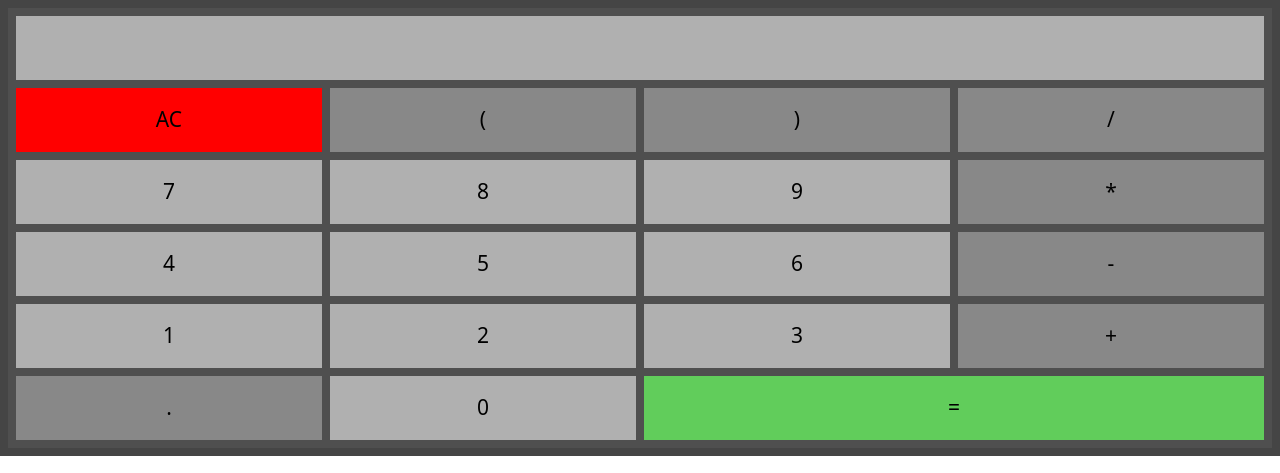
Scenario: BasicCalculator component › Clear button clears the display
Click the button with id "one" at (169, 336), box [16,304,322,368]
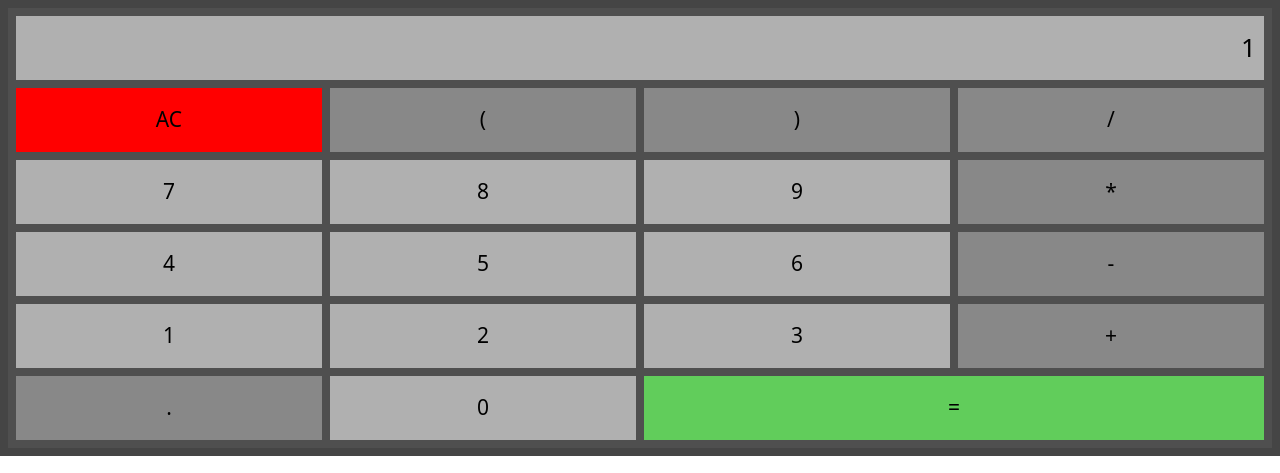
Click the button with id "two" at (483, 336), box [330,304,636,368]
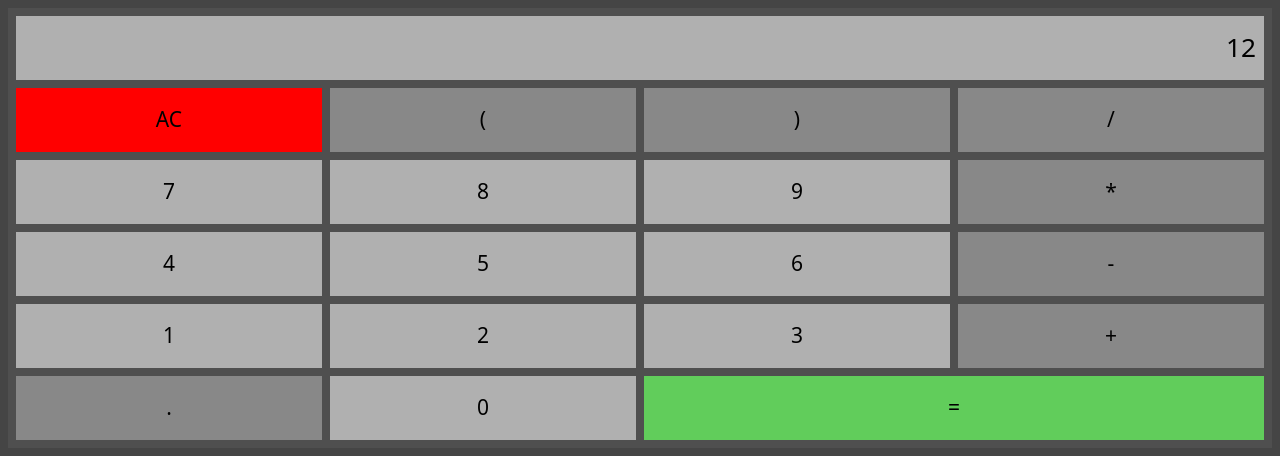
Click the button with id "three" at (797, 336), box [644,304,950,368]
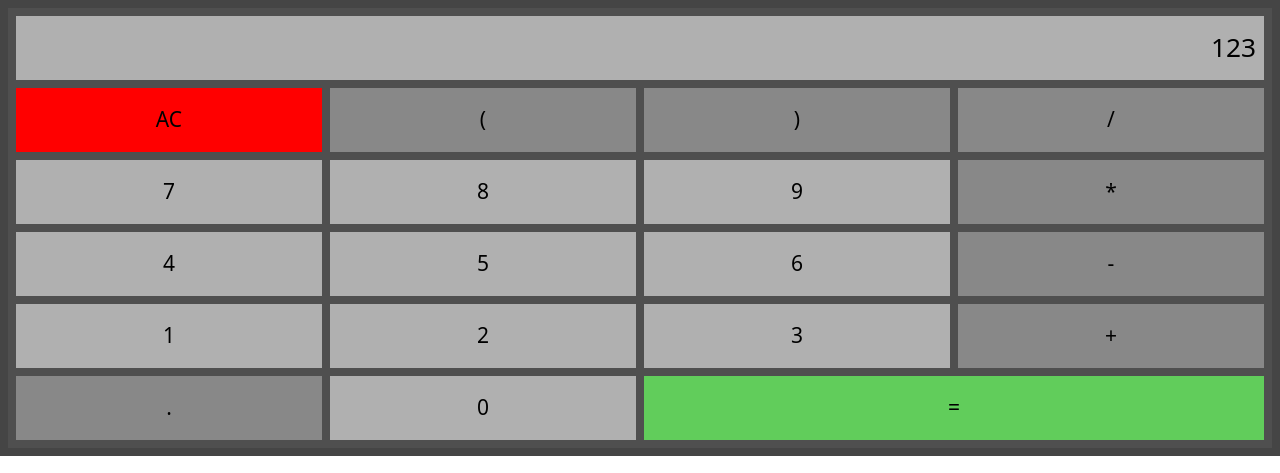
Click the button with id "clear" at (169, 120), box [16,88,322,152]
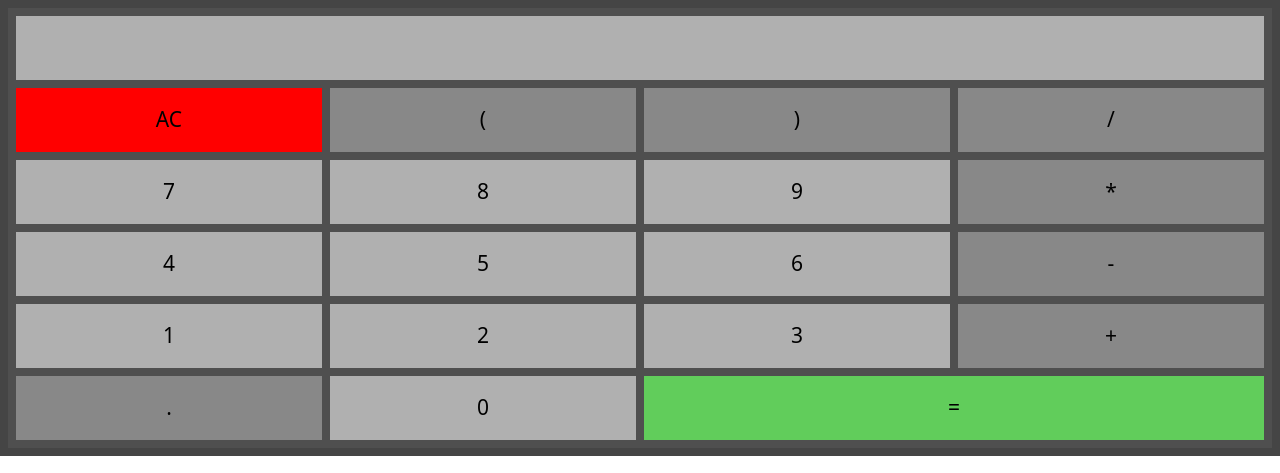
Expected: the element with id "display" is empty, [16,16,1264,80]
